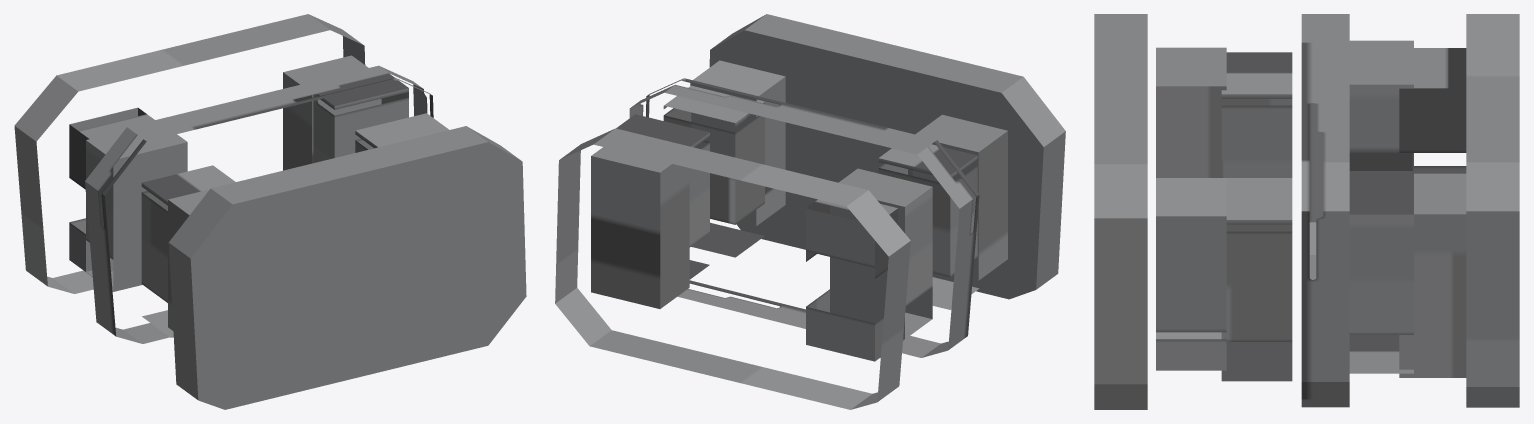
3 views of the same model, side by side, from view 1: azimuth 30°, elevation 25°; view 2: azimuth 150°, elevation 25°; view 3: azimuth 270°, elevation 25° (orthographic). The views are drawn at different scales.
Bounding box in the file's own units: 0.8096 × 0.4692 × 0.736.
